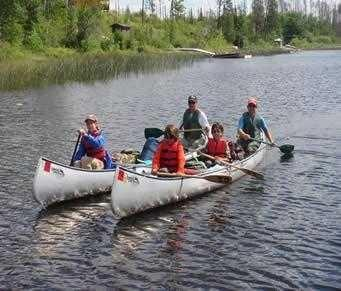kayak: (111, 162, 232, 218), (31, 157, 117, 207)
